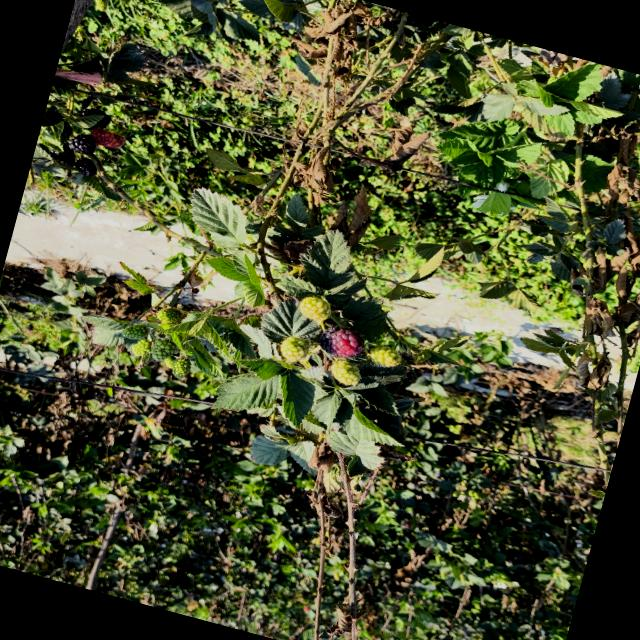maduro: (68, 134, 96, 154), (74, 158, 96, 176)
marron: (319, 327, 363, 358)
naranja: (90, 127, 125, 148)
verde: (298, 296, 330, 324), (329, 358, 360, 385), (279, 336, 308, 362), (367, 345, 401, 366), (150, 339, 175, 361), (156, 307, 182, 325), (122, 323, 147, 340), (172, 357, 190, 377), (131, 339, 151, 357)
